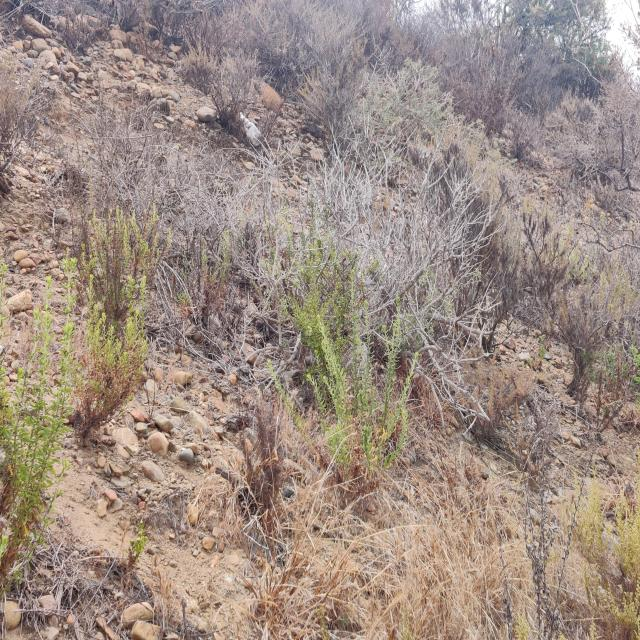litter: (239, 113, 262, 146)
